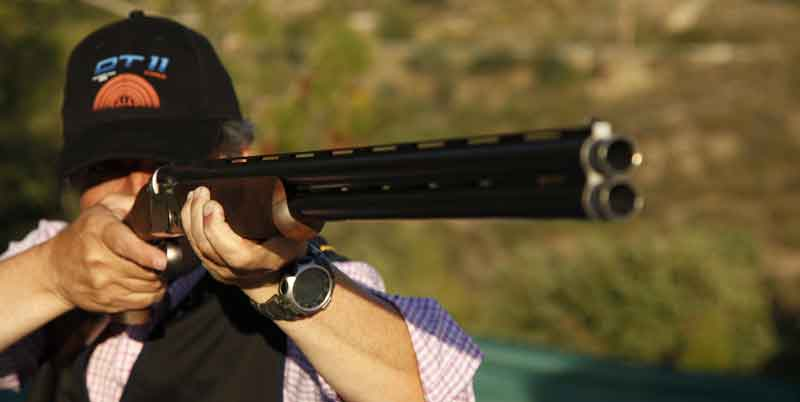weapon: (77, 119, 642, 343)
